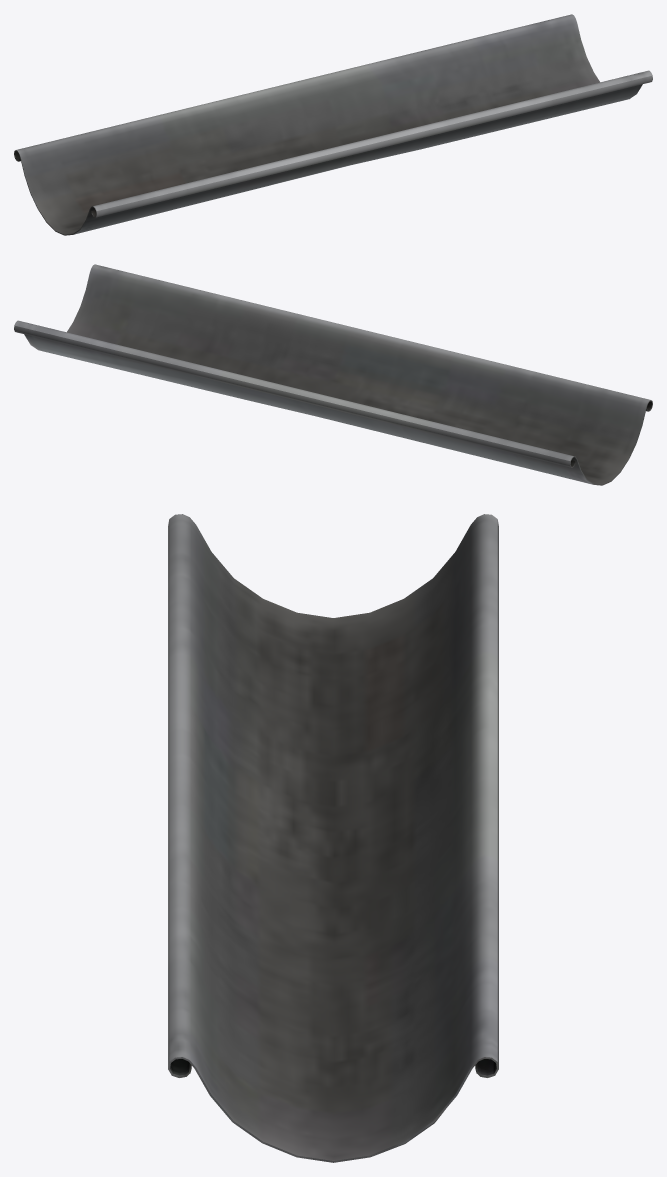
File: modular_metal_gutter.glb
The picture shows the model from 3 angles, top to bottom: view 1: azimuth 30°, elevation 25°; view 2: azimuth 150°, elevation 25°; view 3: azimuth 270°, elevation 25°; orthographic projection. The views are drawn at different scales.
Parts seen in each view (by area): view 1: modular_metal_gutter; view 2: modular_metal_gutter; view 3: modular_metal_gutter.
Boxes of the visible parts, x1,y1,x2,y2 form: modular_metal_gutter: [14, 14, 652, 235]; modular_metal_gutter: [14, 264, 652, 485]; modular_metal_gutter: [168, 514, 498, 1162].
Size of the model in its own units: 1.51 by 0.1374 by 0.3891.
1 material, 1 textured.
